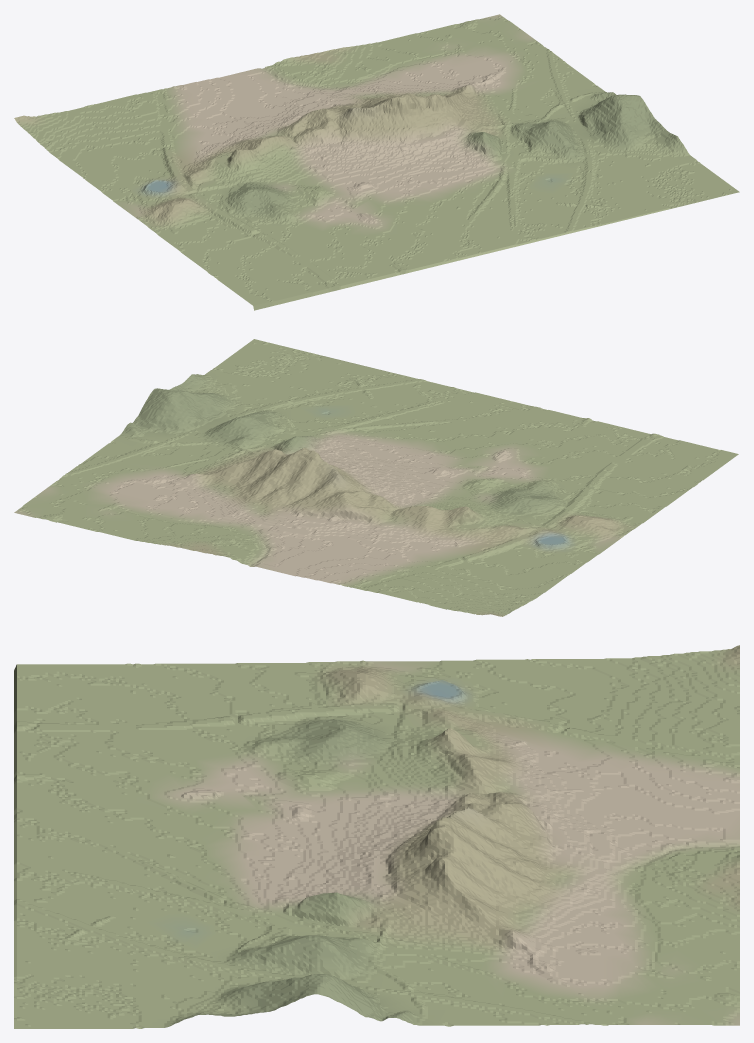
The model's file is terrain.glb.
3 renders of one model, top to bottom at view 1: azimuth 30°, elevation 25°; view 2: azimuth 150°, elevation 25°; view 3: azimuth 270°, elevation 25°, orthographic. The views are drawn at different scales.
Parts seen in each view (by area): view 1: terrain; view 2: terrain; view 3: terrain.
Part boxes in pixels (x1=…): terrain: x1=14, y1=14, x2=739, y2=310; terrain: x1=14, y1=339, x2=738, y2=616; terrain: x1=14, y1=645, x2=739, y2=1028.
Size of the model in its own units: 2990 by 237 by 2560.
